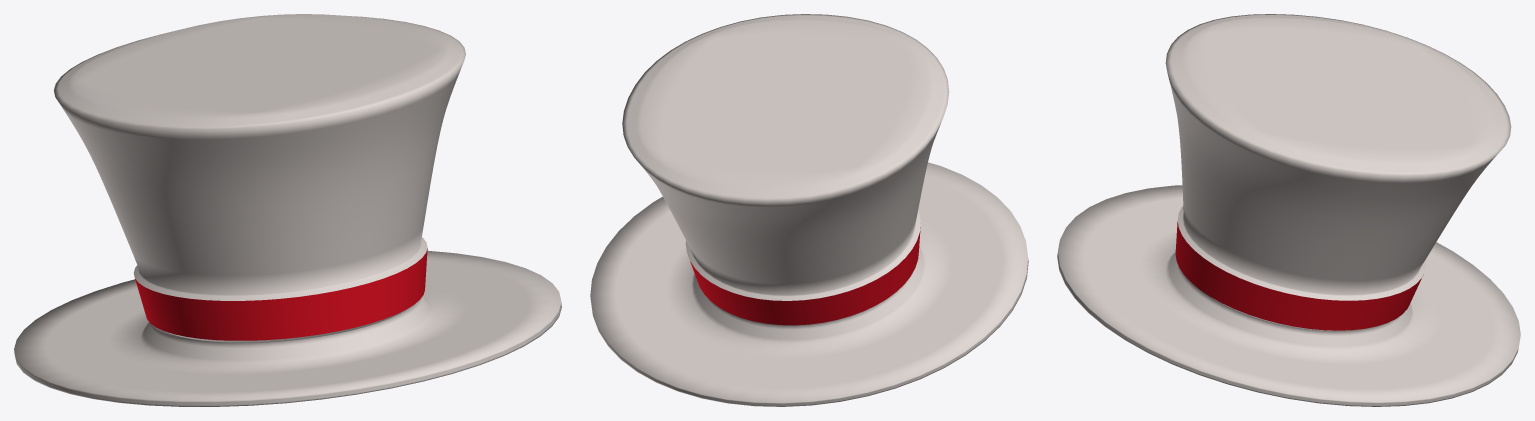
Rendered from MAGIC HAT.fbx.
3 views of the same model, side by side, from view 1: azimuth 30°, elevation 25°; view 2: azimuth 150°, elevation 25°; view 3: azimuth 270°, elevation 25° (orthographic). The views are drawn at different scales.
Visible parts, largest first — view 1: MAGICIAN'S HAT.001; view 2: MAGICIAN'S HAT.001; view 3: MAGICIAN'S HAT.001.
Boxes of the visible parts, left/top/right/bottom form: MAGICIAN'S HAT.001: left=14, top=14, right=561, bottom=406; MAGICIAN'S HAT.001: left=590, top=14, right=1028, bottom=406; MAGICIAN'S HAT.001: left=1057, top=14, right=1520, bottom=406.
Size of the model in its own units: 1099 by 715 by 1081.
